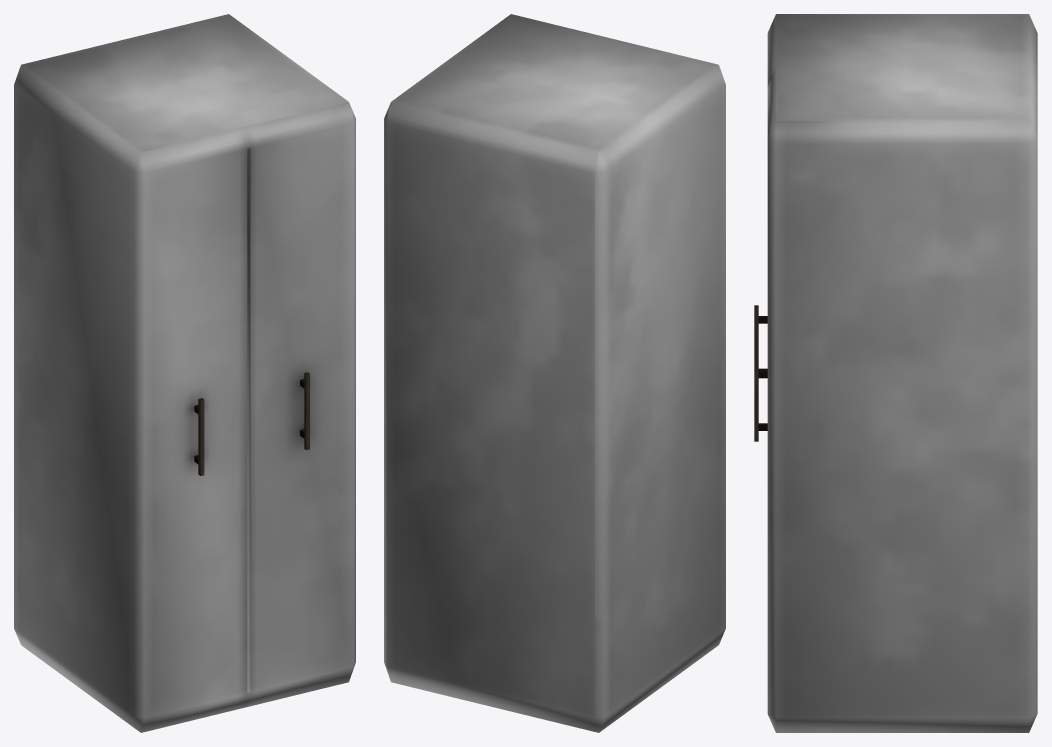
File: Refrigerator1.fbx
3 renders of one model, left to right at view 1: azimuth 30°, elevation 25°; view 2: azimuth 150°, elevation 25°; view 3: azimuth 270°, elevation 25°, orthographic. The views are drawn at different scales.
Parts seen in each view (by area): view 1: Refrigerator1; view 2: Refrigerator1; view 3: Refrigerator1.
Boxes of the visible parts, bbox=[...] form: Refrigerator1: bbox=[14, 14, 355, 732]; Refrigerator1: bbox=[384, 14, 725, 732]; Refrigerator1: bbox=[754, 14, 1037, 732].
Bounding box in the file's own units: 1 × 2.5 × 1.05.
1 material, 1 textured.
